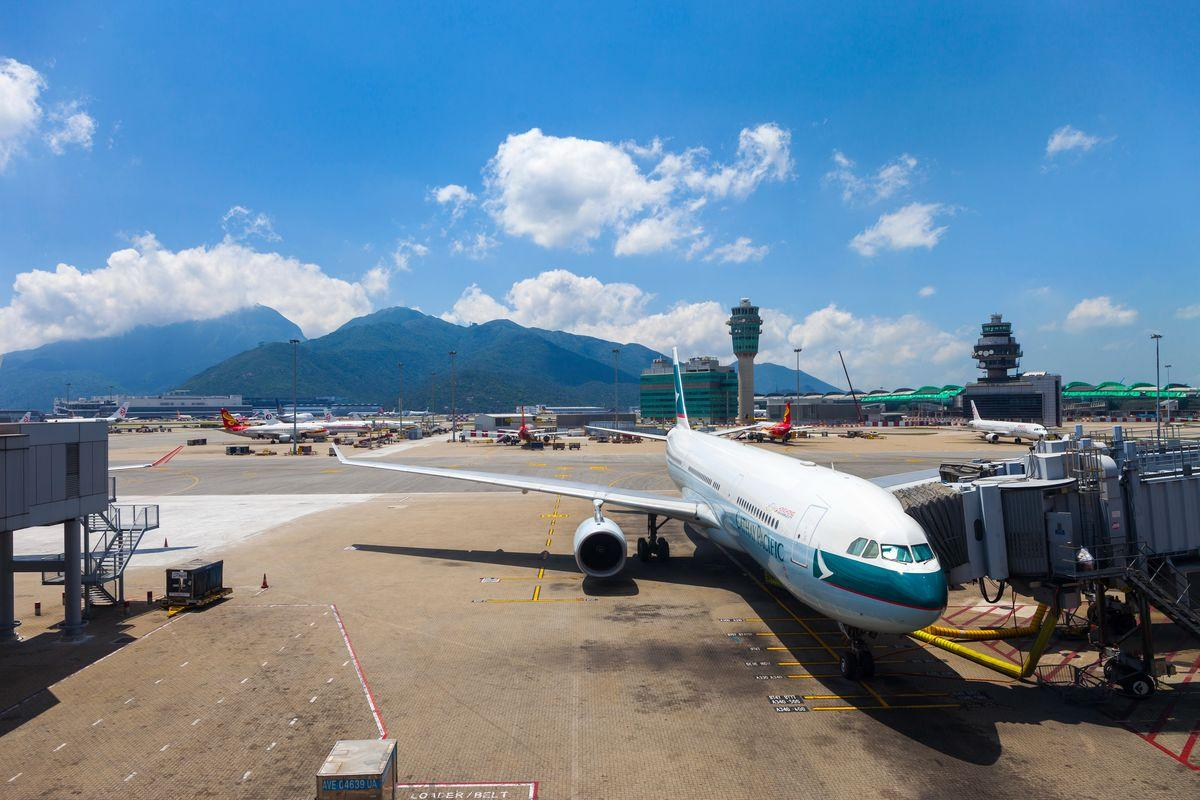airplane: (321, 346, 1013, 640)
